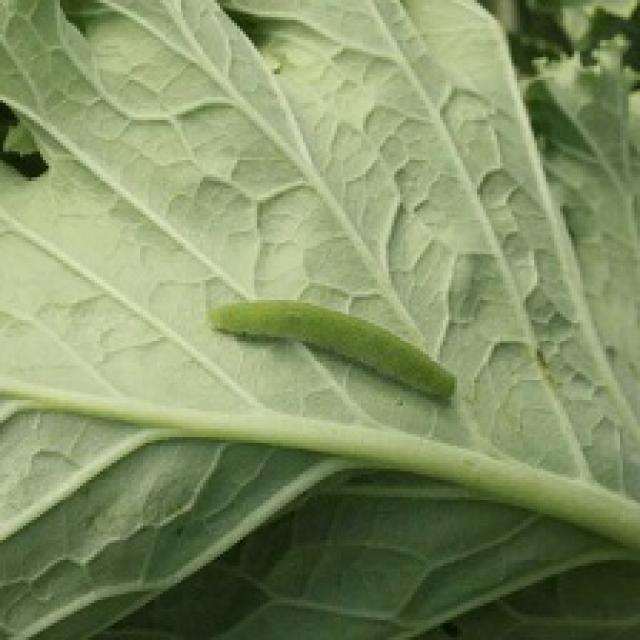Cabbage-worm: (199, 270, 480, 429)
